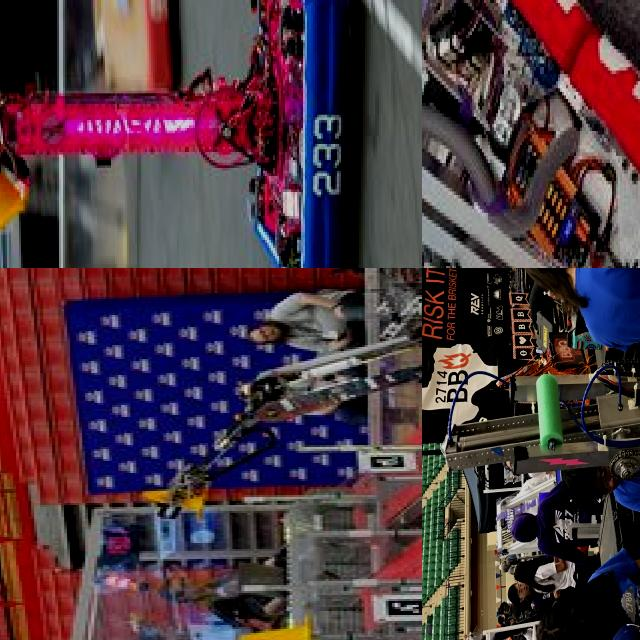FRC-Robots: (0, 0, 372, 268), (425, 268, 640, 640), (140, 268, 422, 543), (422, 0, 640, 268), (31, 0, 171, 136)
